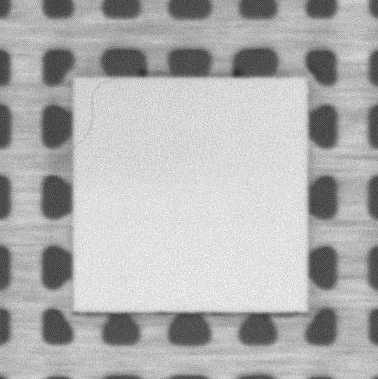DIE_CRACK: (73, 79, 107, 145)
